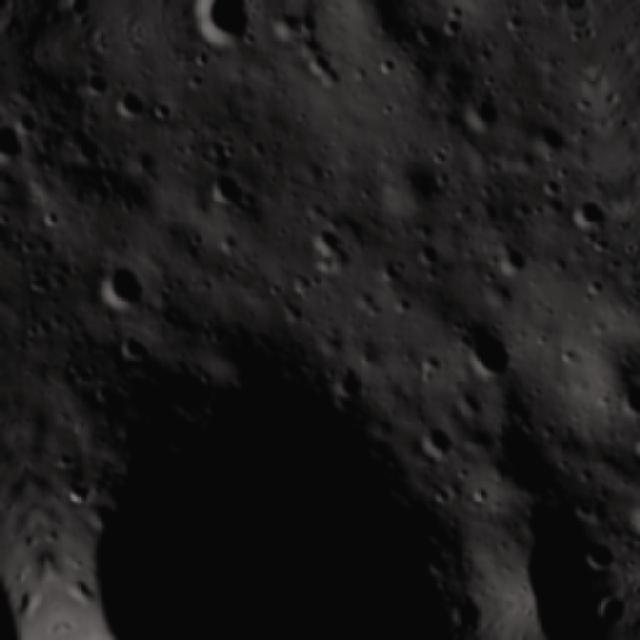crater: (16, 321, 458, 640), (484, 494, 596, 604), (373, 147, 453, 230), (452, 316, 526, 396), (87, 250, 158, 322), (189, 7, 266, 59), (516, 115, 579, 172), (300, 216, 358, 276), (443, 374, 499, 432), (196, 159, 253, 215), (58, 118, 114, 174), (407, 412, 456, 468), (458, 86, 508, 140), (472, 272, 520, 319), (567, 192, 613, 240), (326, 359, 371, 408), (198, 126, 242, 172), (577, 532, 620, 578), (0, 112, 34, 170), (432, 1, 474, 47), (53, 469, 98, 511), (77, 63, 118, 108), (108, 84, 148, 130), (492, 238, 532, 282), (115, 326, 156, 368), (373, 249, 413, 291), (409, 233, 449, 275), (347, 278, 387, 320), (408, 15, 448, 56), (265, 5, 304, 47), (565, 492, 607, 530), (297, 46, 335, 86), (408, 345, 448, 383), (420, 476, 458, 515), (77, 494, 117, 531), (213, 224, 249, 264), (144, 92, 178, 131), (86, 170, 119, 210), (615, 376, 640, 426), (9, 105, 42, 142), (621, 487, 640, 550), (371, 49, 404, 83), (469, 478, 502, 510), (623, 419, 640, 478), (41, 202, 70, 236), (53, 443, 82, 472), (500, 5, 526, 37), (537, 176, 566, 204), (90, 381, 118, 408), (16, 233, 39, 261), (264, 279, 285, 303)
